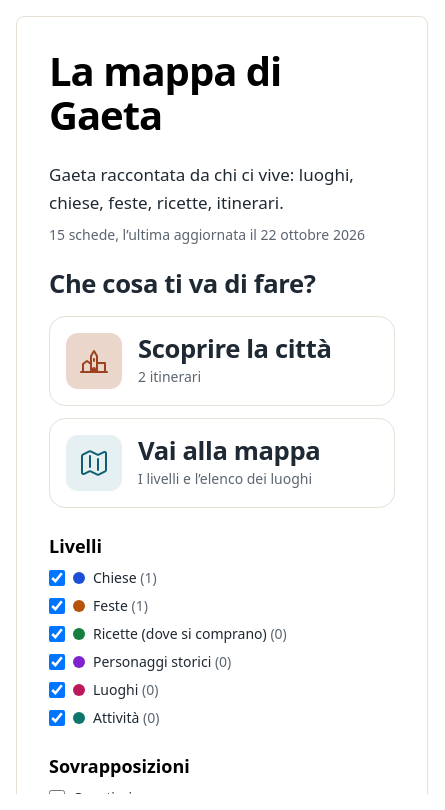
Test: HomeView (the map, spec map.md M1/M2/M3) › puts the question away on «Vai alla mappa», and asks it again on request
The image size is (445, 810).
Step 1. Click the button "Vai alla mappa I livelli e l’elenco dei luoghi" → x=222, y=463, box x1=49 y1=418 x2=395 y2=508
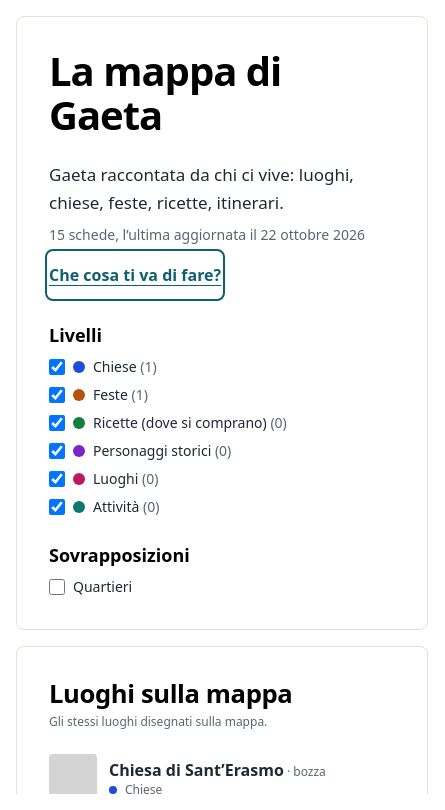
Expected: the checkbox with id "layer-chiese" is shown, x1=49 y1=359 x2=65 y2=375
Expected: the text "Scoprire la città" is gone
Step 2. Click the button "Che cosa ti va di fare?" → x=135, y=275, box x1=49 y1=253 x2=221 y2=297
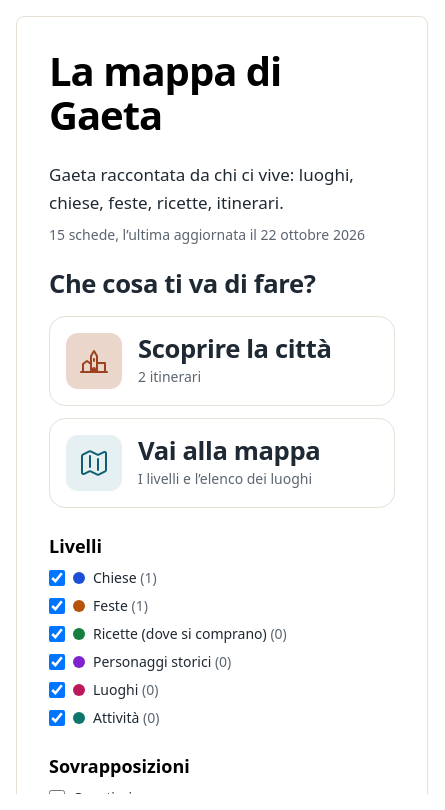
Expected: the heading "Che cosa ti va di fare?" is shown, x1=49 y1=266 x2=316 y2=301
Expected: the text "Scoprire la città" is shown, x1=138 y1=334 x2=332 y2=365
